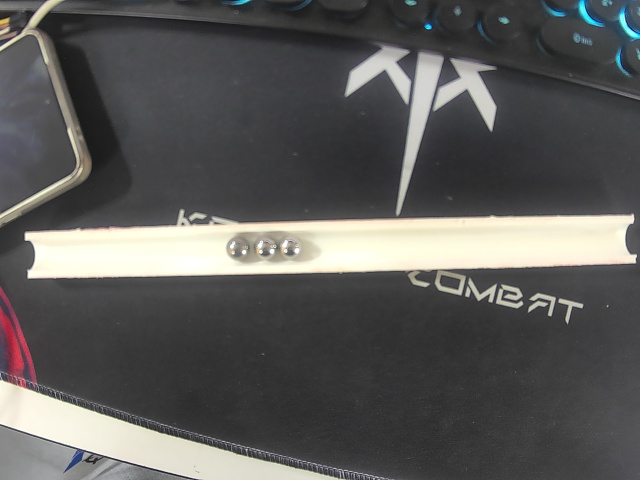steelball: (226, 235, 251, 260), (253, 236, 277, 260), (280, 237, 302, 258)
